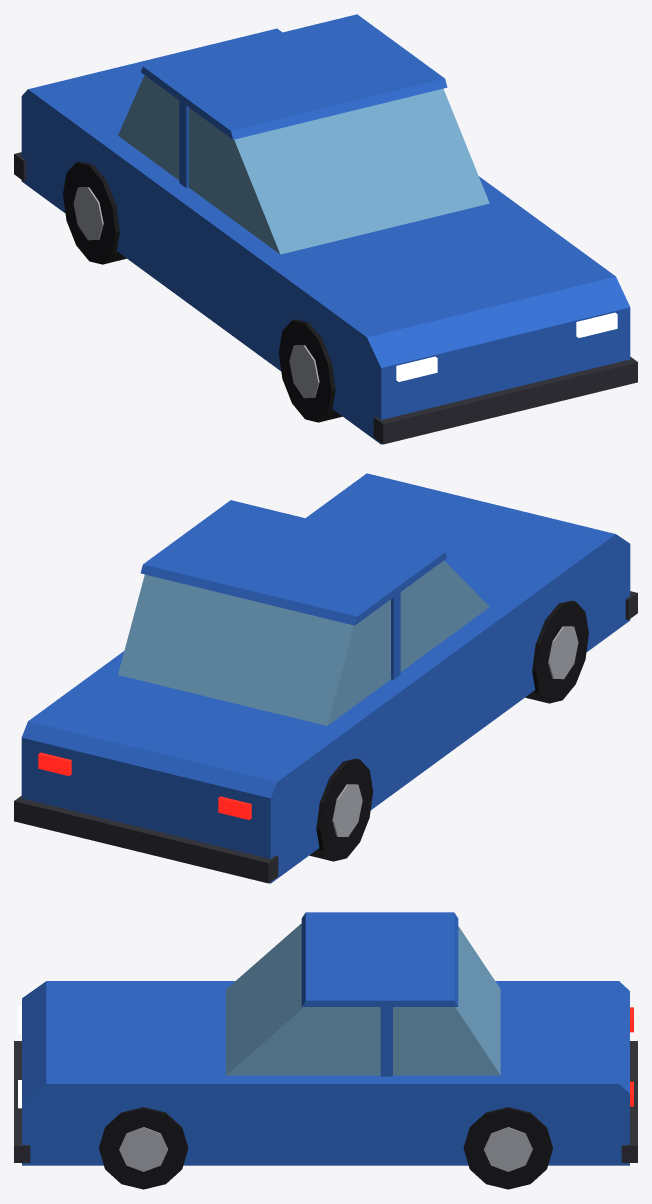
Rendered from car_sedan.glb.
3 views of the same model, one above another, from view 1: azimuth 30°, elevation 25°; view 2: azimuth 150°, elevation 25°; view 3: azimuth 270°, elevation 25° (orthographic). The views are drawn at different scales.
Visible parts, largest first — view 1: car_sedan; view 2: car_sedan; view 3: car_sedan.
Part boxes in pixels (bbox=[...]): car_sedan: bbox=[14, 14, 637, 444]; car_sedan: bbox=[14, 473, 637, 883]; car_sedan: bbox=[14, 912, 637, 1189].
Size of the model in its own units: 1.88 by 1.47 by 4.62.
